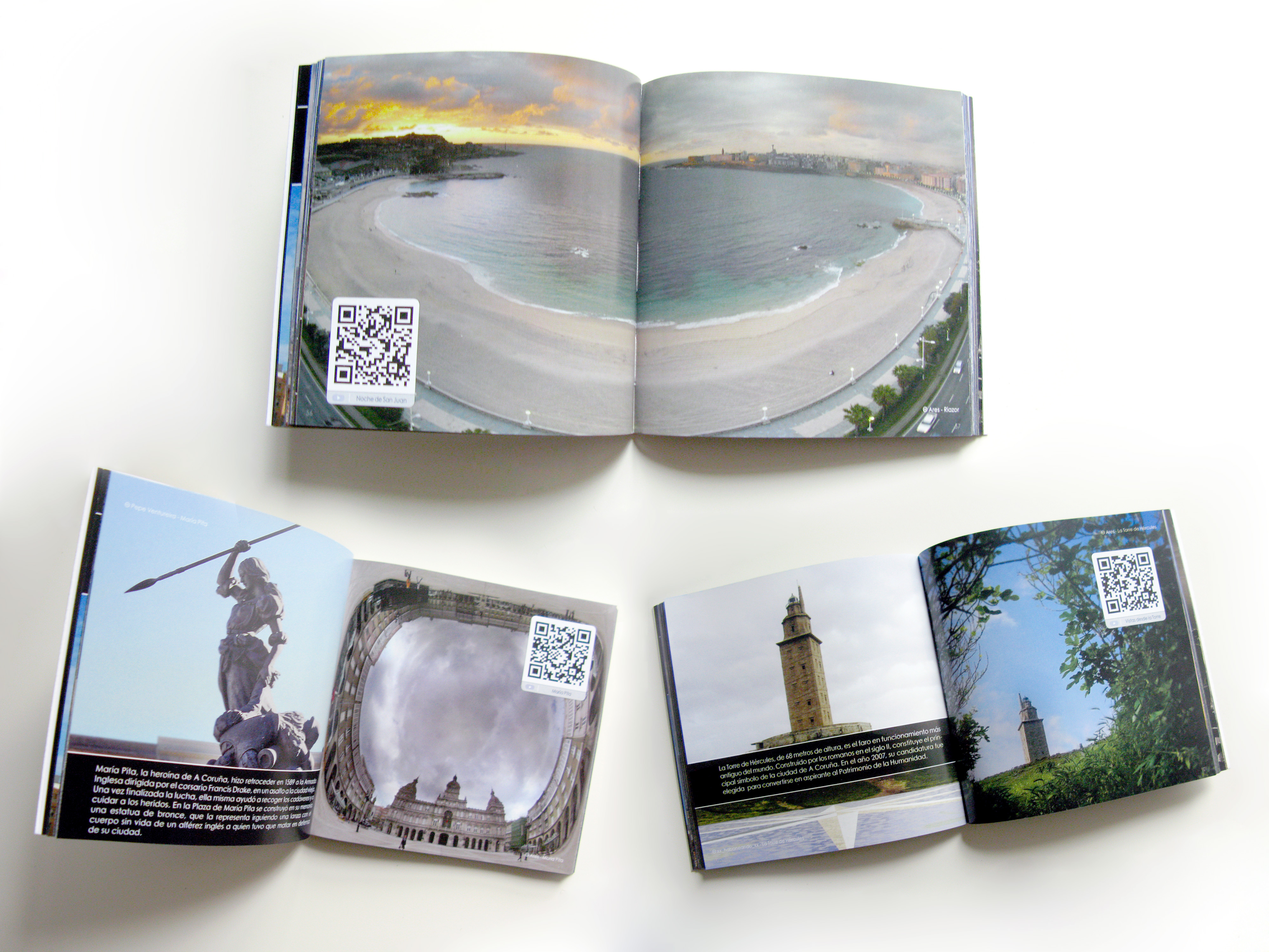QR-CODE: (334, 305, 413, 386), (528, 621, 591, 686), (1096, 552, 1160, 614)
